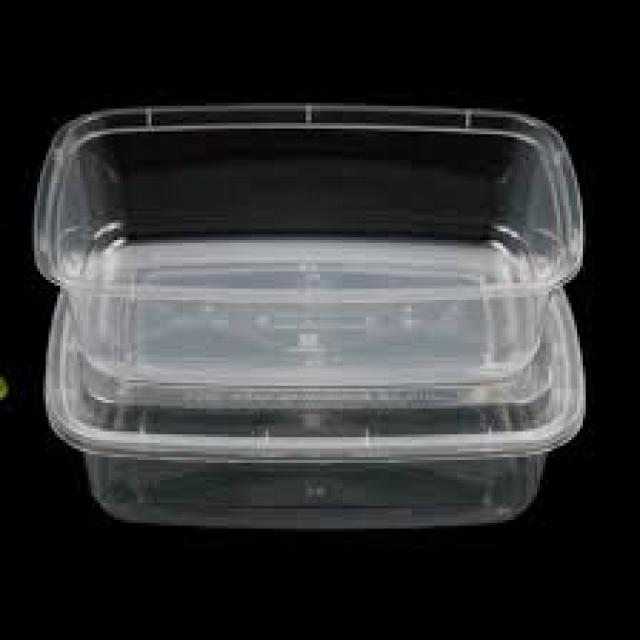disposable: (28, 81, 614, 417), (56, 265, 594, 546)
